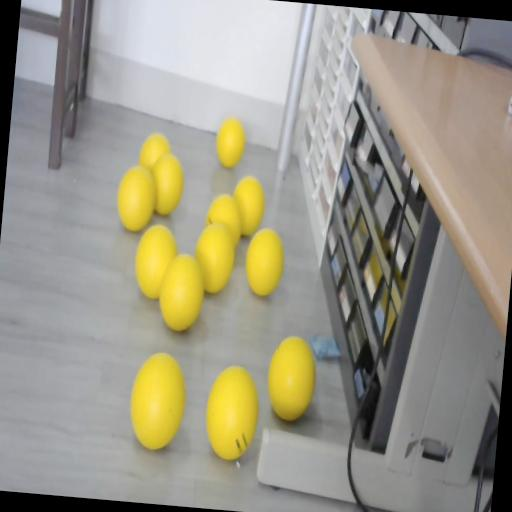FUEL: (126, 348, 190, 452), (202, 362, 262, 461), (264, 334, 318, 422), (132, 222, 179, 300), (190, 221, 238, 295), (242, 226, 288, 298), (114, 164, 158, 234), (148, 150, 187, 218), (230, 175, 268, 238), (214, 116, 247, 168)
